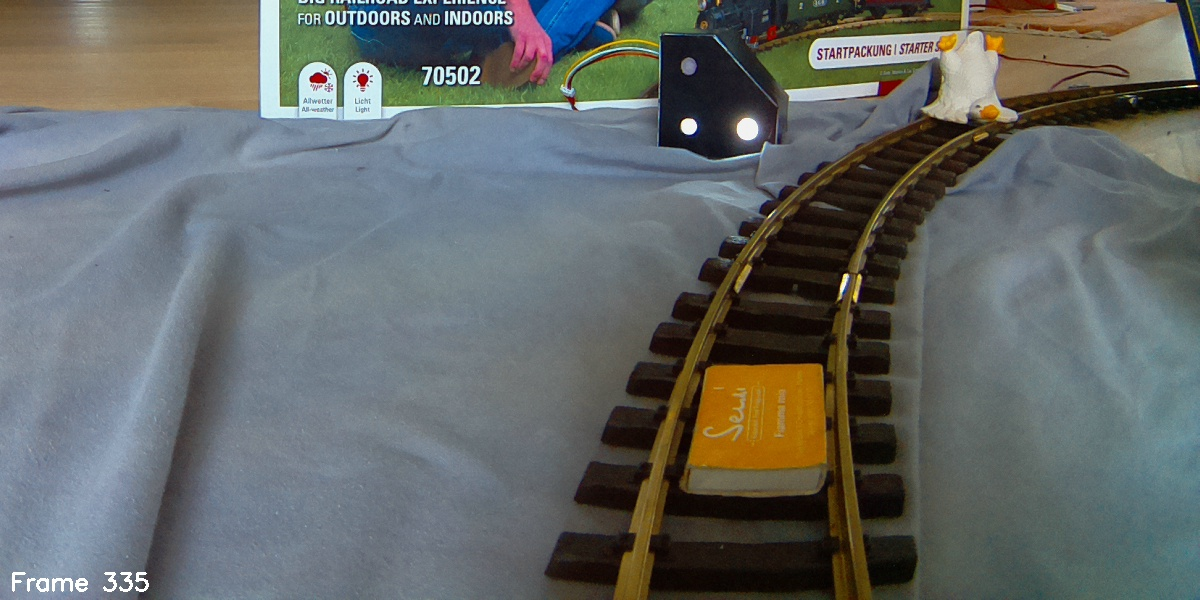Ente: (916, 30, 1023, 132)
Halt: (659, 35, 783, 151)
